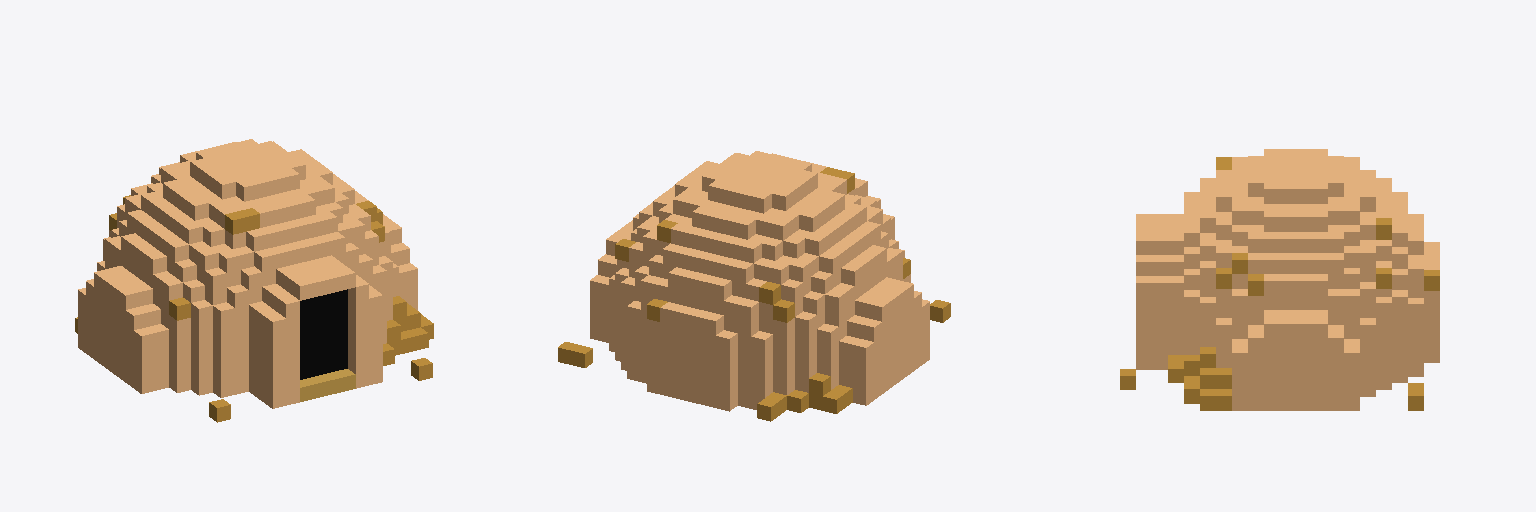
3 renders of one model, left to right at view 1: azimuth 30°, elevation 25°; view 2: azimuth 150°, elevation 25°; view 3: azimuth 270°, elevation 25°, orthographic.
Visible parts, largest first — view 1: object 1; view 2: object 1; view 3: object 1.
Part boxes in pixels (x1,y1,x2,y2): object 1: (75, 139, 433, 422); object 1: (558, 151, 950, 421); object 1: (1120, 149, 1439, 410).
Bounding box in the file's own units: 2 × 1.2 × 2.
1 materials, 1 textured.